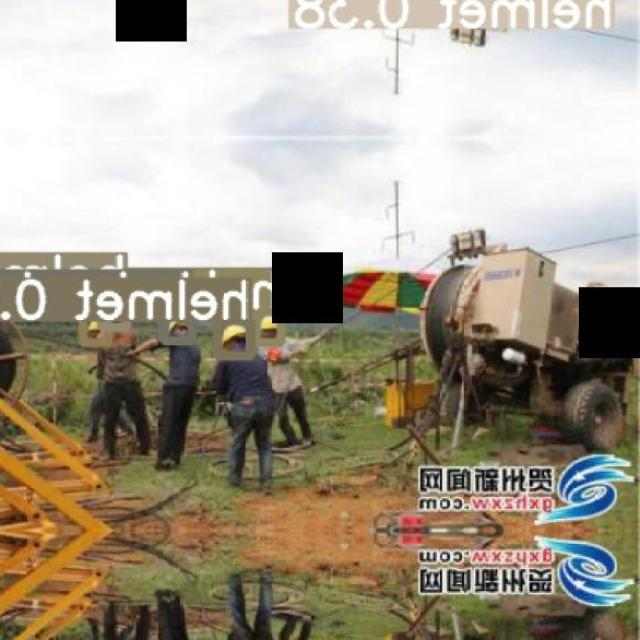helmet: (223, 324, 247, 345), (169, 320, 189, 335), (261, 316, 279, 330), (268, 348, 282, 362)
